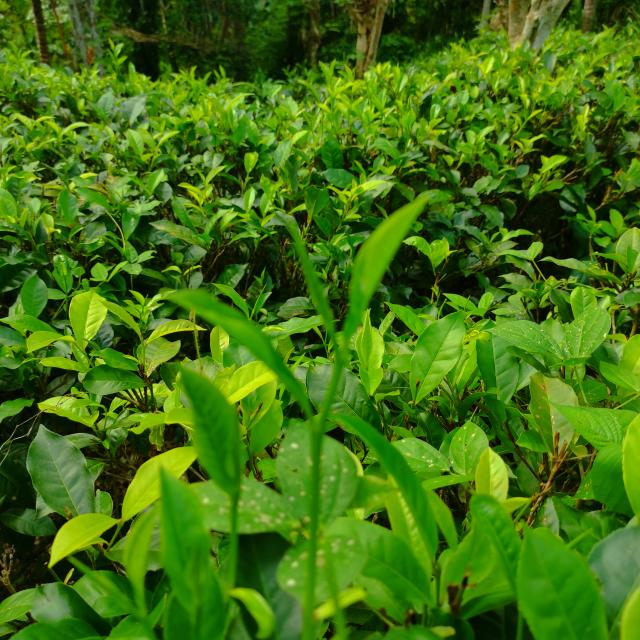unopened_leaf: (282, 210, 351, 360), (65, 550, 146, 627), (222, 392, 251, 498), (320, 541, 351, 640), (566, 517, 598, 549), (138, 291, 153, 312)
